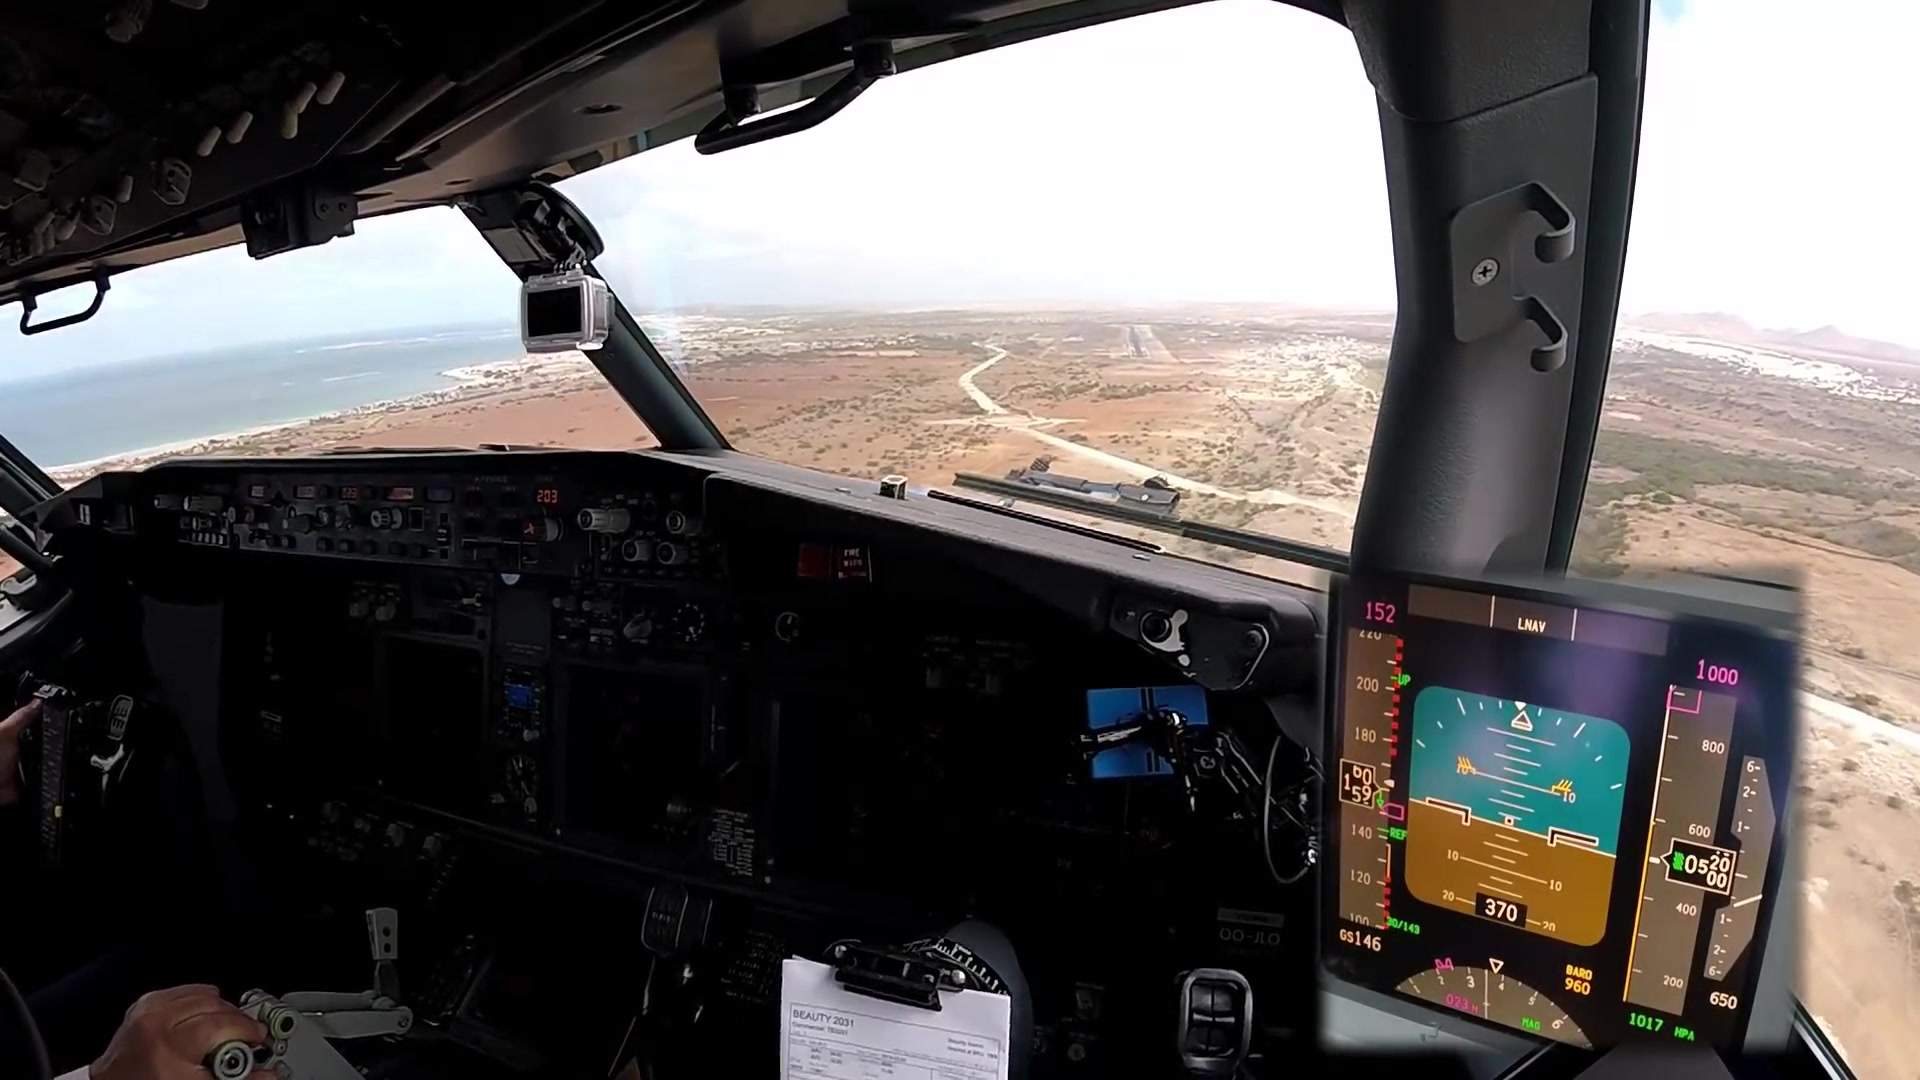runway: (1125, 327, 1153, 359)
